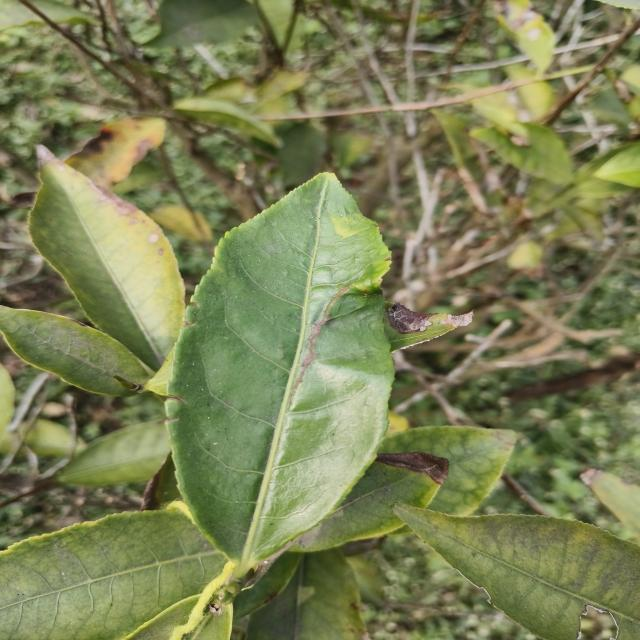Leaf: (166, 174, 393, 572), (29, 147, 185, 370), (393, 503, 640, 640), (0, 507, 226, 640), (291, 452, 449, 552), (0, 306, 151, 396), (381, 426, 516, 516), (247, 548, 369, 640), (58, 419, 170, 487), (65, 118, 165, 189), (471, 122, 572, 184), (147, 0, 257, 47), (174, 97, 278, 145), (494, 0, 555, 74)
